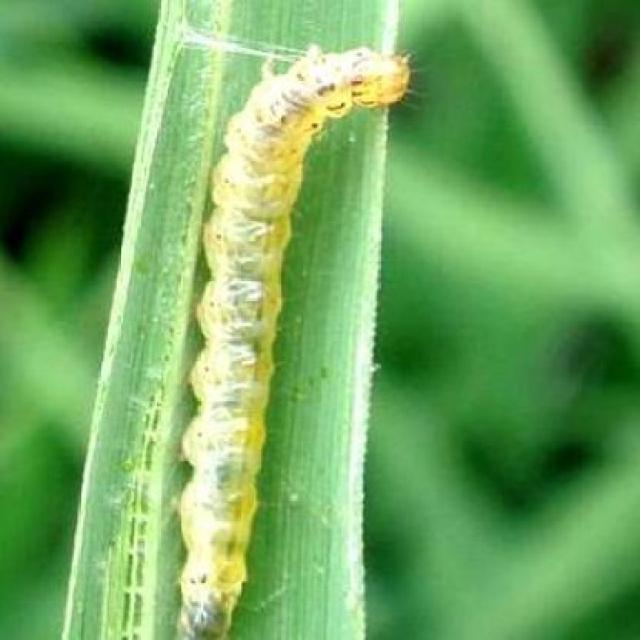leaf-folder: (131, 7, 426, 640)
